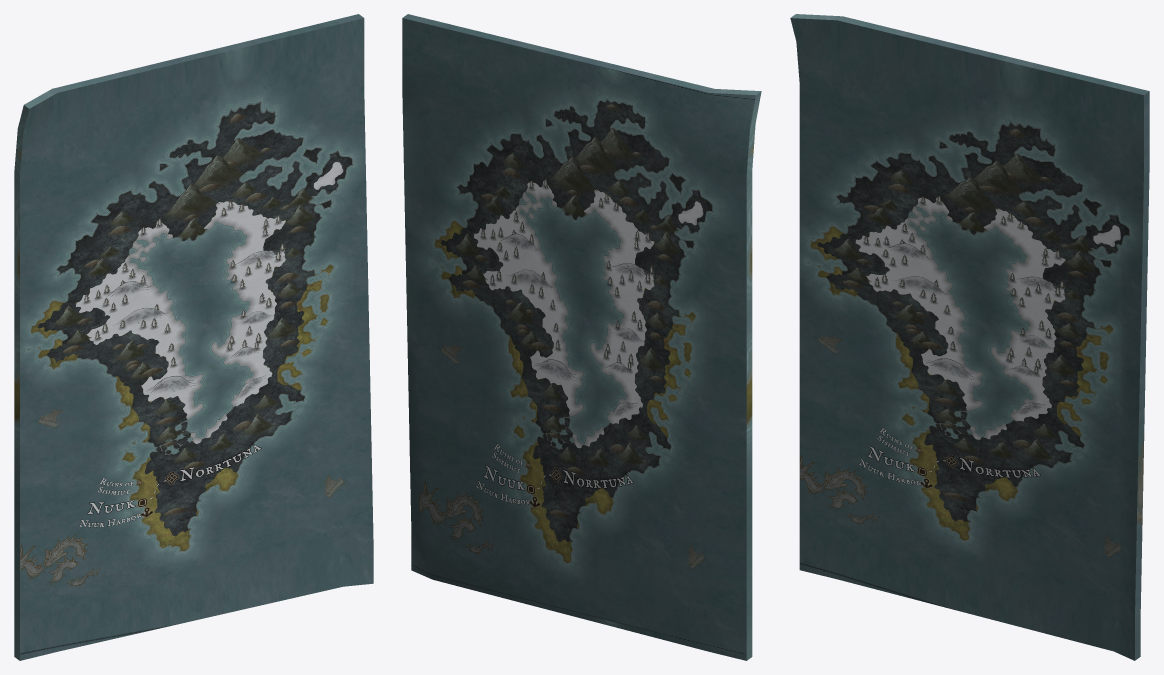
Rendered from greenlandmap.fbx.
3 renders of one model, left to right at view 1: azimuth 30°, elevation 25°; view 2: azimuth 150°, elevation 25°; view 3: azimuth 330°, elevation 25°, orthographic.
Visible parts, largest first — view 1: Cube; view 2: Cube; view 3: Cube.
Boxes of the visible parts, bbox=[...] form: Cube: bbox=[14, 14, 373, 660]; Cube: bbox=[402, 14, 761, 660]; Cube: bbox=[790, 14, 1149, 660].
Bounding box in the file's own units: 392 × 608 × 29.42.
